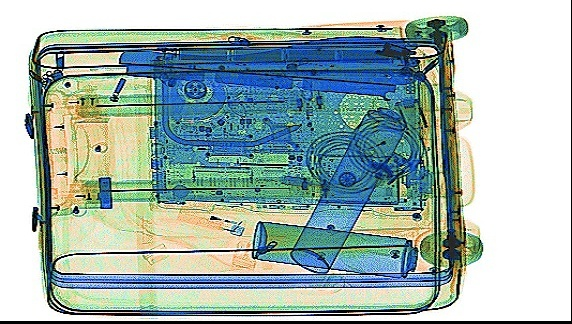lighter: (173, 202, 247, 238)
pressure: (287, 77, 421, 274), (249, 219, 445, 282)
